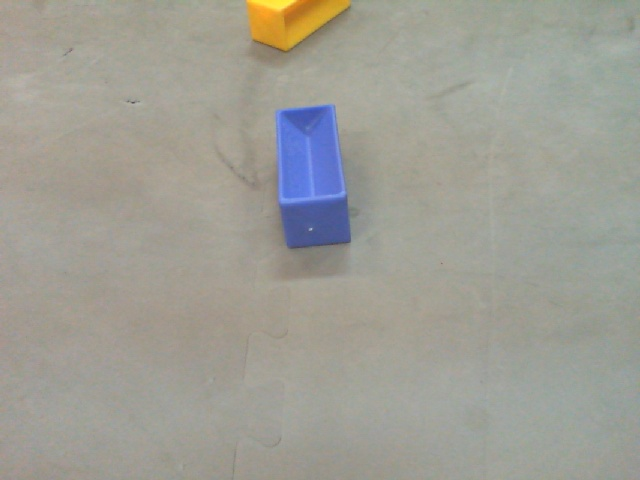BlueSample: (273, 102, 354, 250)
YellowSample: (245, 1, 350, 52)
